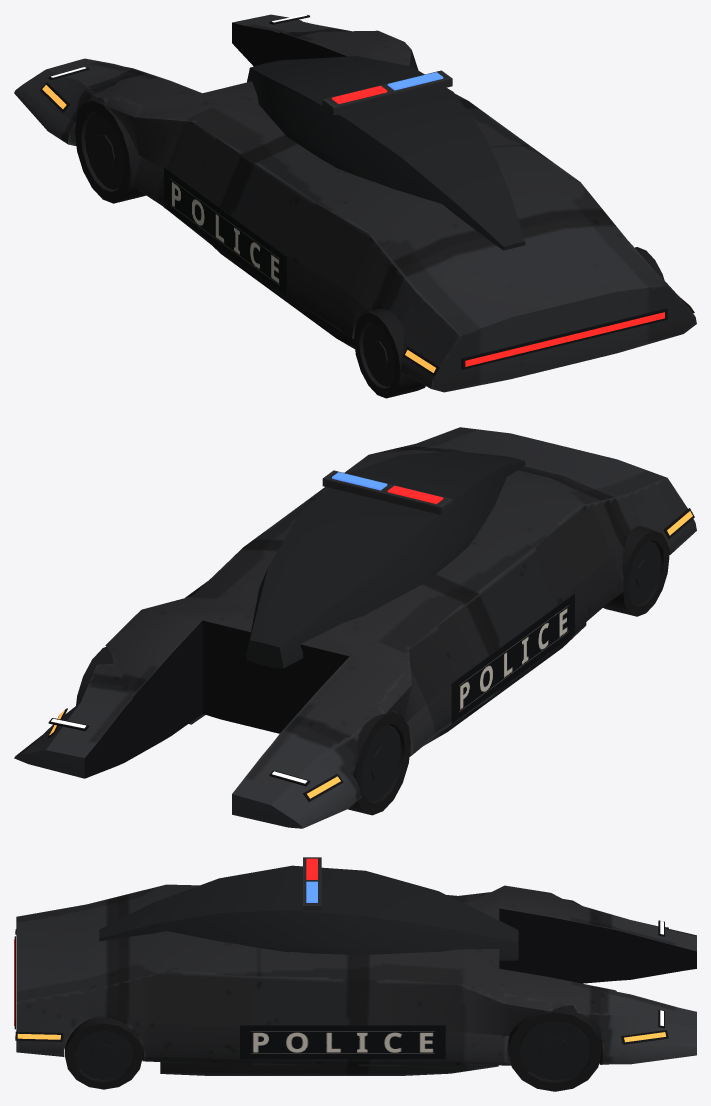
Rendered from spinner-low.glb.
3 views of the same model, one above another, from view 1: azimuth 30°, elevation 25°; view 2: azimuth 150°, elevation 25°; view 3: azimuth 270°, elevation 25° (orthographic). The views are drawn at different scales.
Parts seen in each view (by area): view 1: body, glass, rubber, livery, drum, recess, light-red; view 2: body, glass, rubber, livery, drum, recess; view 3: body, glass, livery, drum, rubber, recess, light-amber.
Part boxes in pixels (<box>): body: <box>14,14,696,392</box>; glass: <box>247,56,525,250</box>; rubber: <box>75,98,664,398</box>; livery: <box>164,167,286,297</box>; drum: <box>84,113,395,386</box>; recess: <box>40,15,694,376</box>; light-red: <box>465,312,664,366</box>; body: <box>14,427,696,828</box>; glass: <box>246,451,525,668</box>; rubber: <box>76,526,669,815</box>; livery: <box>185,581,574,723</box>; drum: <box>361,541,660,801</box>; recess: <box>47,508,694,801</box>; body: <box>16,857,696,1075</box>; glass: <box>99,865,518,960</box>; livery: <box>240,1025,445,1059</box>; drum: <box>74,1021,589,1080</box>; rubber: <box>65,899,601,1091</box>; recess: <box>14,920,668,1044</box>; light-amber: <box>17,1032,665,1042</box>.
Size of the model in its own units: 2.32 by 1.36 by 5.45.
12 materials, 2 textured.
